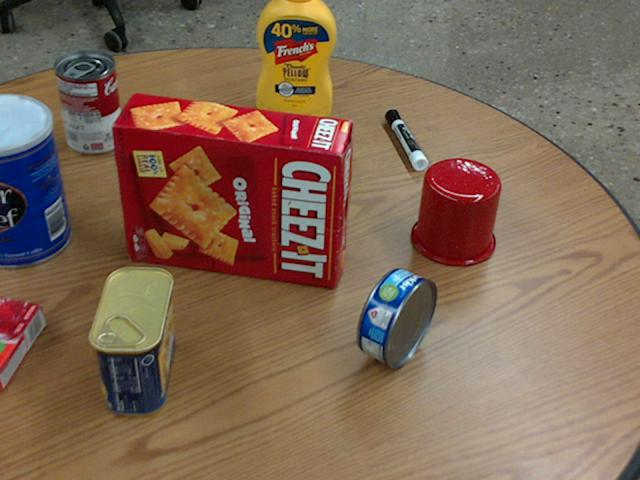cracker_box: (113, 93, 352, 288)
gelatin_box: (0, 297, 42, 388)
large_marker: (386, 108, 428, 169)
master_chef_can: (0, 95, 70, 268)
mug: (409, 157, 500, 265)
mustard_bottle: (257, 0, 336, 119)
potted_meat_can: (86, 265, 172, 414)
sugar_box: (166, 104, 332, 194)
tomato_soup_can: (54, 50, 123, 153)
tuna_fish_can: (358, 267, 435, 366)
